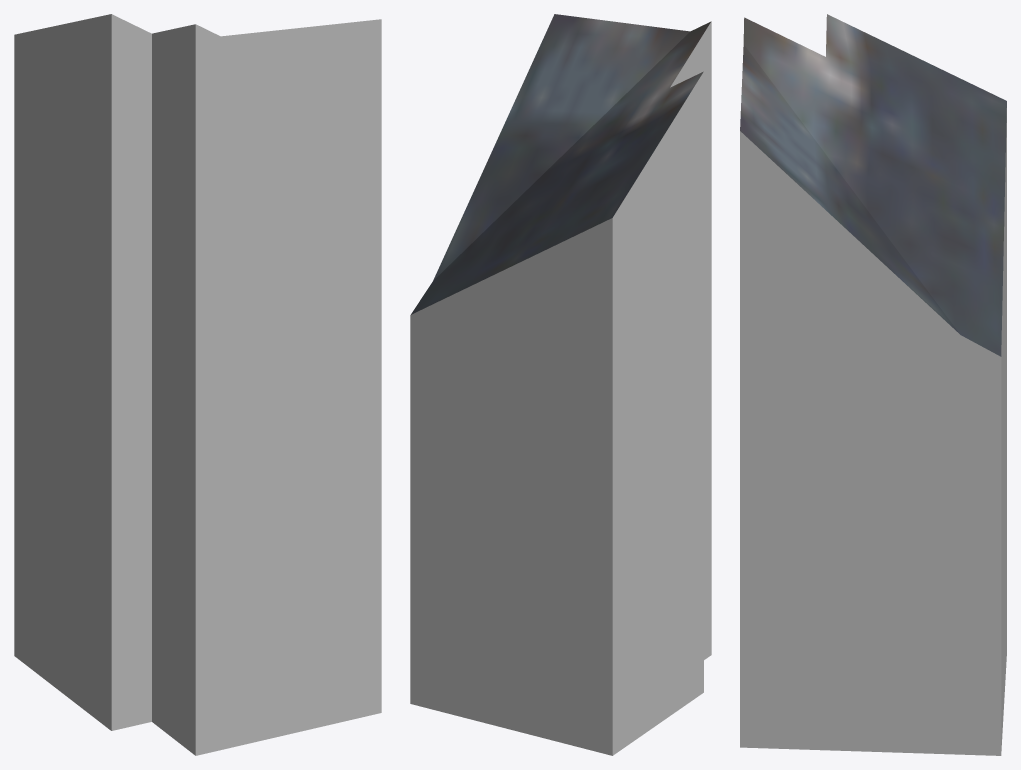
File: DEBW_0010007Txgj.gltf
3 views of the same model, side by side, from view 1: azimuth 30°, elevation 25°; view 2: azimuth 150°, elevation 25°; view 3: azimuth 270°, elevation 25° (orthographic). The views are drawn at different scales.
Visible parts, largest first — view 1: Z_UP; view 2: Z_UP; view 3: Z_UP.
Boxes of the visible parts, x1=… form: Z_UP: x1=14, y1=14, x2=381, y2=755; Z_UP: x1=410, y1=14, x2=711, y2=755; Z_UP: x1=740, y1=14, x2=1006, y2=755.
Bounding box in the file's own units: 4.72 × 13.71 × 5.1.
2 materials, 1 textured.
